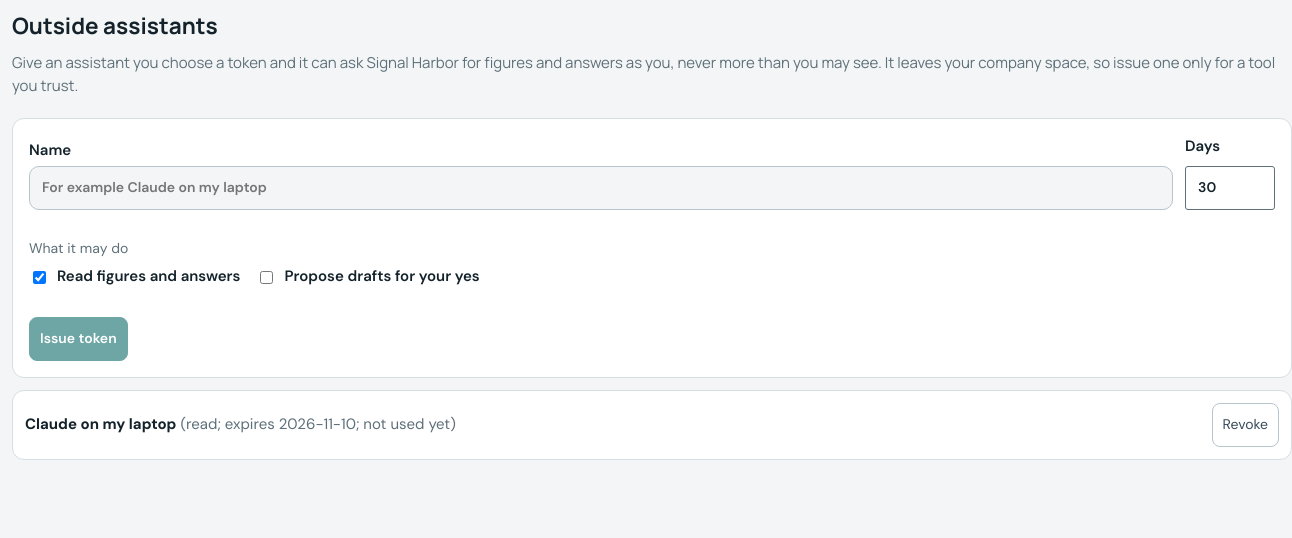
Test: the form is styled, Issue token waits for a name, and the token is shown once
The image size is (1292, 538).
Expected: the button "Issue token" is disabled, [29,317,128,361]
Type "Cursor" into the field labelled "Name".
click(601, 188); type("Cursor")  # box [29,166,1173,210]
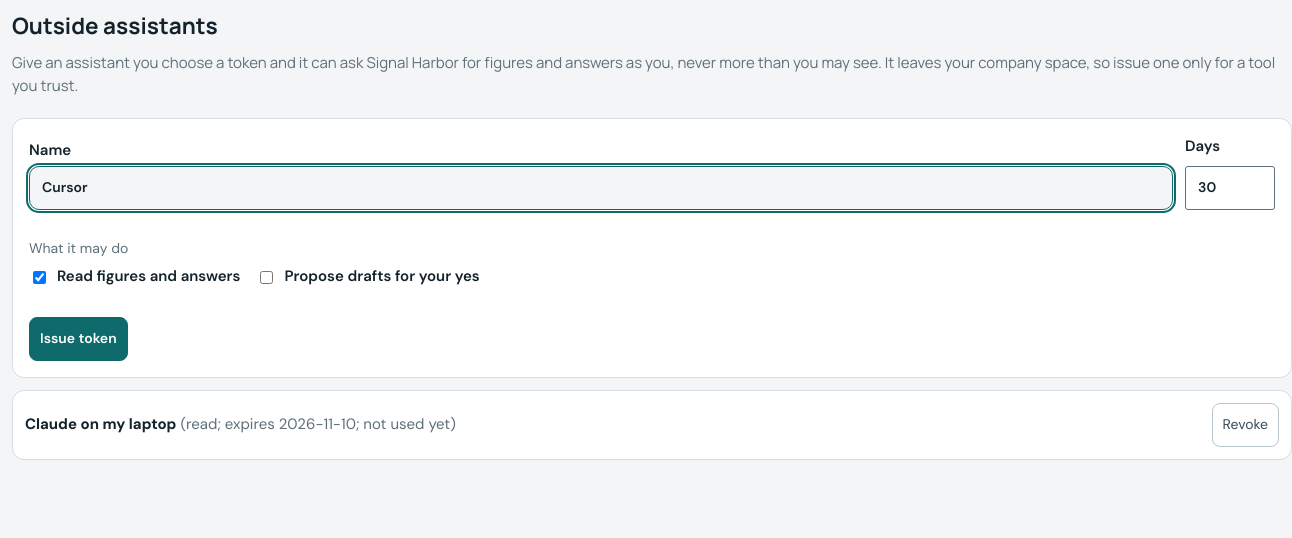
Click the button "Issue token".
click(78, 339)  # box [29,317,128,361]
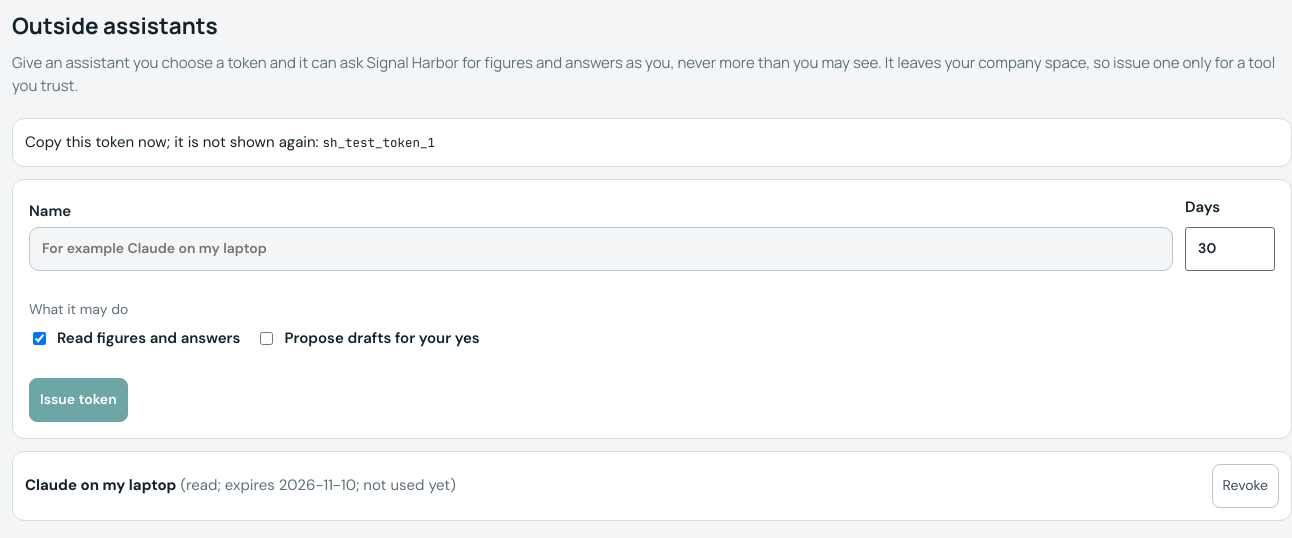
Expected: the text "sh_test_token_1" is shown, [323,134,435,150]
